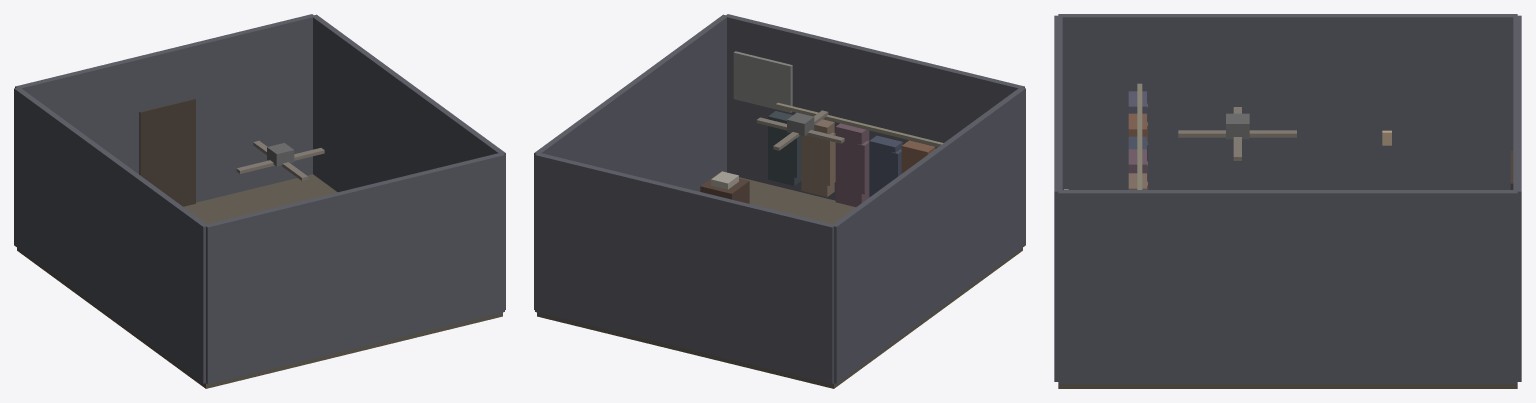
File: cuartoAbrigos.obj
3 views of the same model, side by side, from view 1: azimuth 30°, elevation 25°; view 2: azimuth 150°, elevation 25°; view 3: azimuth 270°, elevation 25° (orthographic). The views are drawn at different scales.
Parts seen in each view (by area): view 1: cuartoAbrigos_c2_12, cuartoAbrigos_c2_10, cuartoAbrigos_c2_13, cuartoAbrigos_c2_11, cuartoAbrigos_c2_9, cuartoAbrigos_c2_14, cuartoAbrigos_c2_32, cuartoAbrigos_c2_33; view 2: cuartoAbrigos_c2_13, cuartoAbrigos_c2_10, cuartoAbrigos_c2_12, cuartoAbrigos_c2_11, cuartoAbrigos_c2_9, cuartoAbrigos_c2_16, cuartoAbrigos_c2_24, cuartoAbrigos_c2_26, cuartoAbrigos_c2_28, cuartoAbrigos_c2_22, cuartoAbrigos_c2_17, cuartoAbrigos_c2_36 (+6 smaller); view 3: cuartoAbrigos_c2_11, cuartoAbrigos_c2_10, cuartoAbrigos_c2_9, cuartoAbrigos_c2_12, cuartoAbrigos_c2_13, cuartoAbrigos_c2_34, cuartoAbrigos_c2_17, cuartoAbrigos_c2_32.
Boxes of the visible parts, x1,y1,x2,y2 form: cuartoAbrigos_c2_12: [206, 153, 504, 384]; cuartoAbrigos_c2_10: [14, 87, 208, 383]; cuartoAbrigos_c2_13: [15, 14, 313, 202]; cuartoAbrigos_c2_11: [311, 14, 505, 309]; cuartoAbrigos_c2_9: [17, 174, 502, 388]; cuartoAbrigos_c2_14: [139, 98, 195, 206]; cuartoAbrigos_c2_32: [267, 143, 294, 166]; cuartoAbrigos_c2_33: [236, 148, 324, 173]; cuartoAbrigos_c2_13: [535, 153, 833, 384]; cuartoAbrigos_c2_10: [831, 87, 1025, 383]; cuartoAbrigos_c2_12: [726, 14, 1024, 200]; cuartoAbrigos_c2_11: [534, 14, 728, 309]; cuartoAbrigos_c2_9: [537, 177, 1022, 388]; cuartoAbrigos_c2_16: [733, 51, 792, 112]; cuartoAbrigos_c2_24: [835, 123, 869, 206]; cuartoAbrigos_c2_26: [801, 119, 834, 196]; cuartoAbrigos_c2_28: [768, 111, 801, 185]; cuartoAbrigos_c2_22: [869, 135, 902, 197]; cuartoAbrigos_c2_17: [776, 102, 943, 146]; cuartoAbrigos_c2_36: [700, 173, 749, 203]; cuartoAbrigos_c2_11: [1058, 190, 1517, 383]; cuartoAbrigos_c2_10: [1058, 14, 1517, 189]; cuartoAbrigos_c2_9: [1058, 383, 1517, 388]; cuartoAbrigos_c2_12: [1054, 15, 1062, 381]; cuartoAbrigos_c2_13: [1513, 15, 1521, 381]; cuartoAbrigos_c2_34: [1178, 130, 1296, 137]; cuartoAbrigos_c2_17: [1137, 83, 1142, 189]; cuartoAbrigos_c2_32: [1226, 113, 1249, 139].
Bounding box in the file's own units: 10.9 × 5.6 × 12.02.
